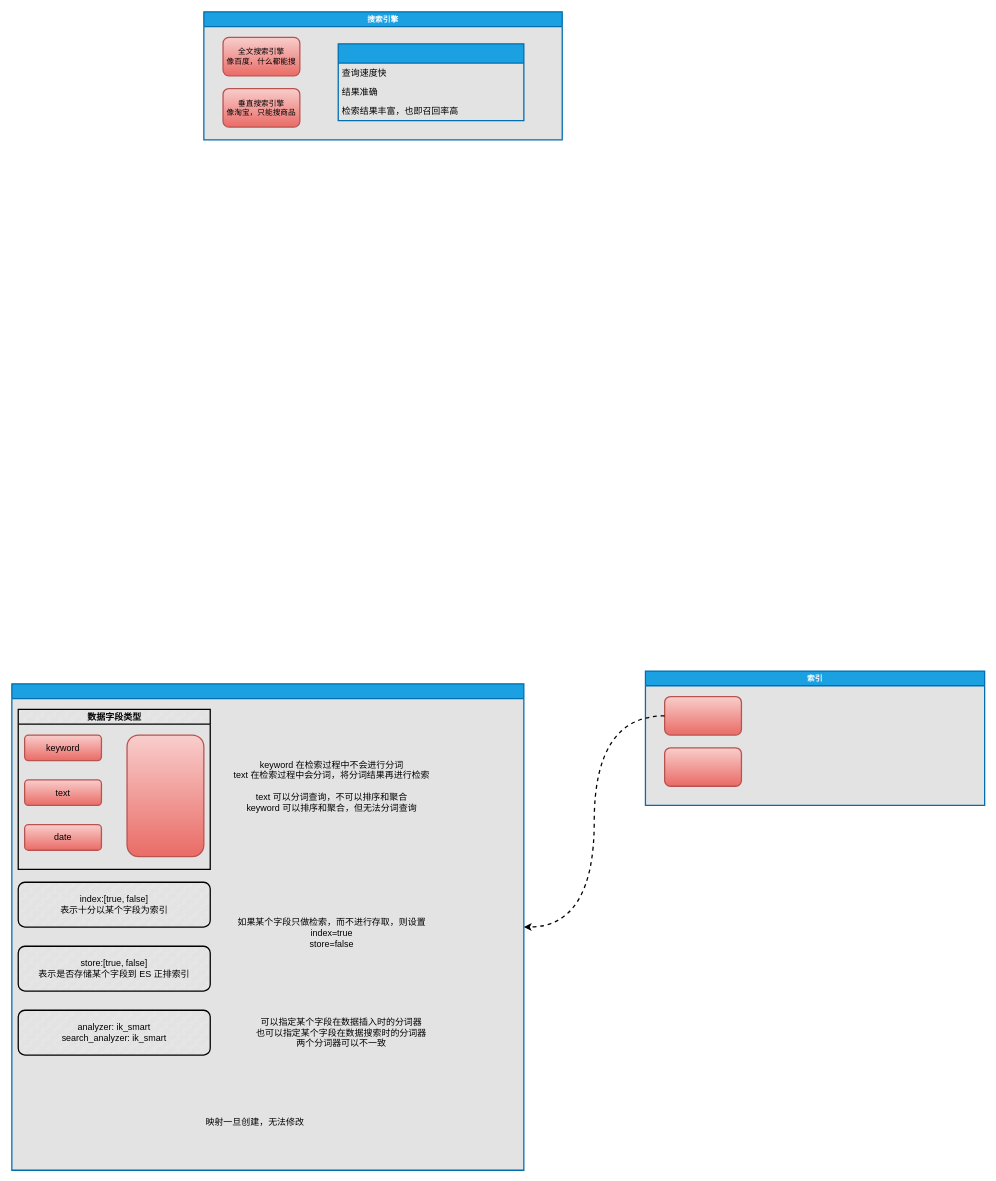
Some shapes in this 996 by 1181 pixel diagram are drawn without their labels. Here are the shapes that lost their labels. From the top down, the box of each, then its label:
(337, 43, 524, 121): 搜索引擎要求
(664, 696, 742, 735): 索引的映射 （描述索引数据结构）
(664, 747, 742, 787): 倒排索引
(126, 734, 204, 857): integer long double byte short float boolean
(11, 683, 524, 1171): 映射
